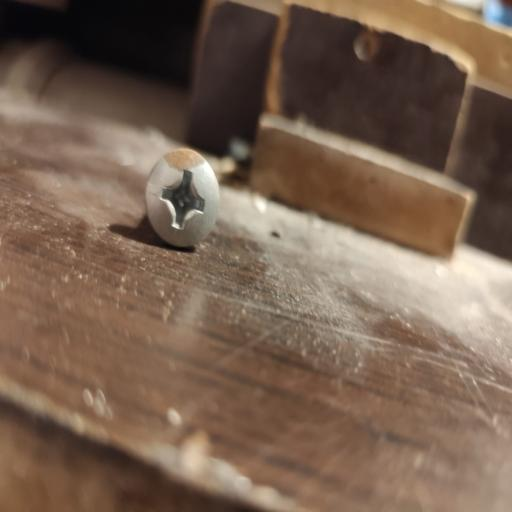Phillips: (142, 146, 226, 258)
